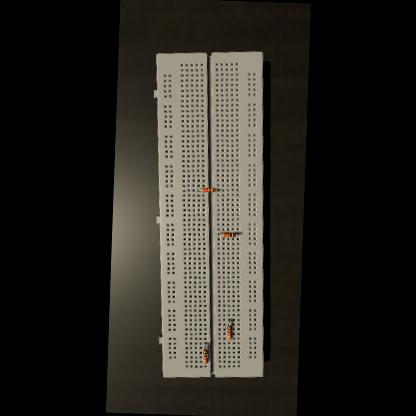breadboard: (144, 47, 274, 380)
resistor: (222, 232, 236, 238), (202, 350, 208, 364), (226, 326, 231, 340), (200, 188, 214, 192)
wire: (228, 320, 230, 326), (218, 234, 222, 236), (236, 233, 238, 235), (215, 190, 218, 191), (198, 190, 200, 191)
